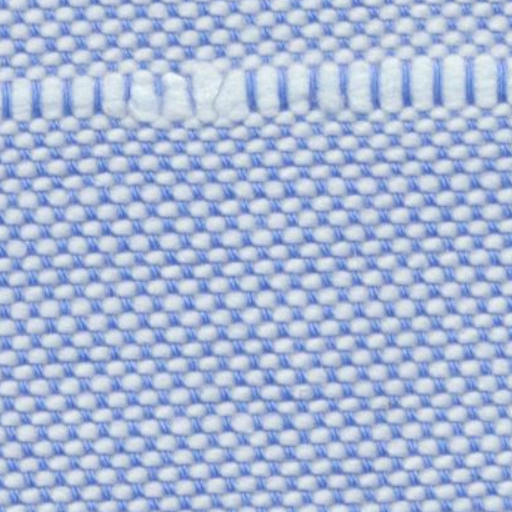DaiSha: (6, 38, 496, 139)
